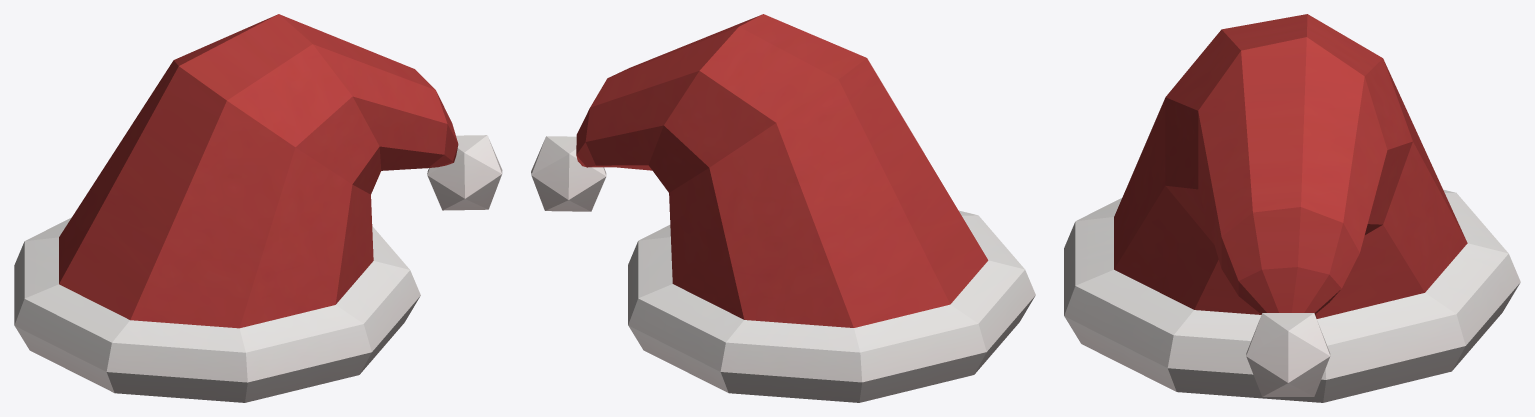
The model's file is santa_Hat.obj.
The picture shows the model from 3 angles, left to right: view 1: azimuth 30°, elevation 25°; view 2: azimuth 150°, elevation 25°; view 3: azimuth 270°, elevation 25°; orthographic projection. The views are drawn at different scales.
Visible parts, largest first — view 1: santa_Hat; view 2: santa_Hat; view 3: santa_Hat.
Boxes of the visible parts, box(x1,y1,x2,y2) form: santa_Hat: box(14, 14, 502, 402); santa_Hat: box(531, 14, 1035, 402); santa_Hat: box(1064, 14, 1520, 402).
Bounding box in the file's own units: 0.6539 × 0.375 × 0.4886.
